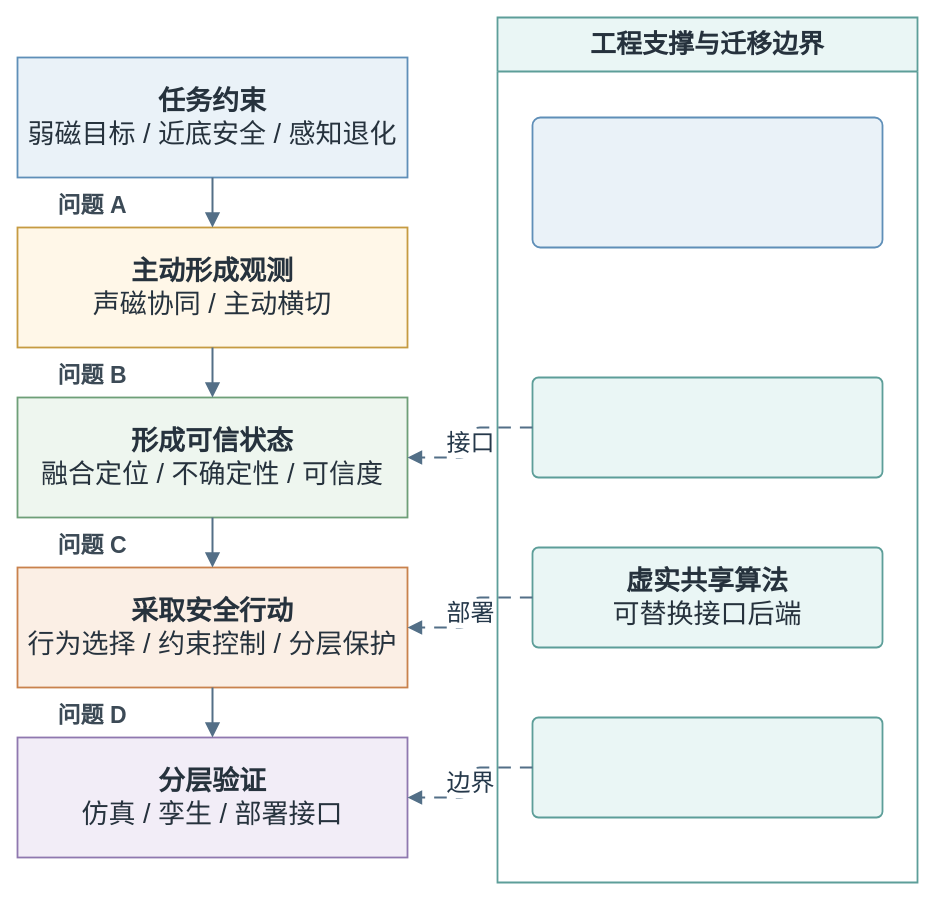
This 936x901 diagram has some shape labels left out. The shapes that lost their labels are listed below. From the top down, each one's centre as x and y in pixels, then its label:
At pixel 707 182: "双脑异步架构 Jetson 决策 / PC104 执行".
At pixel 707 427: "统一数据契约 时间 / 坐标 / 置信度".
At pixel 707 767: "证据边界 成立条件 / 失效范围".
